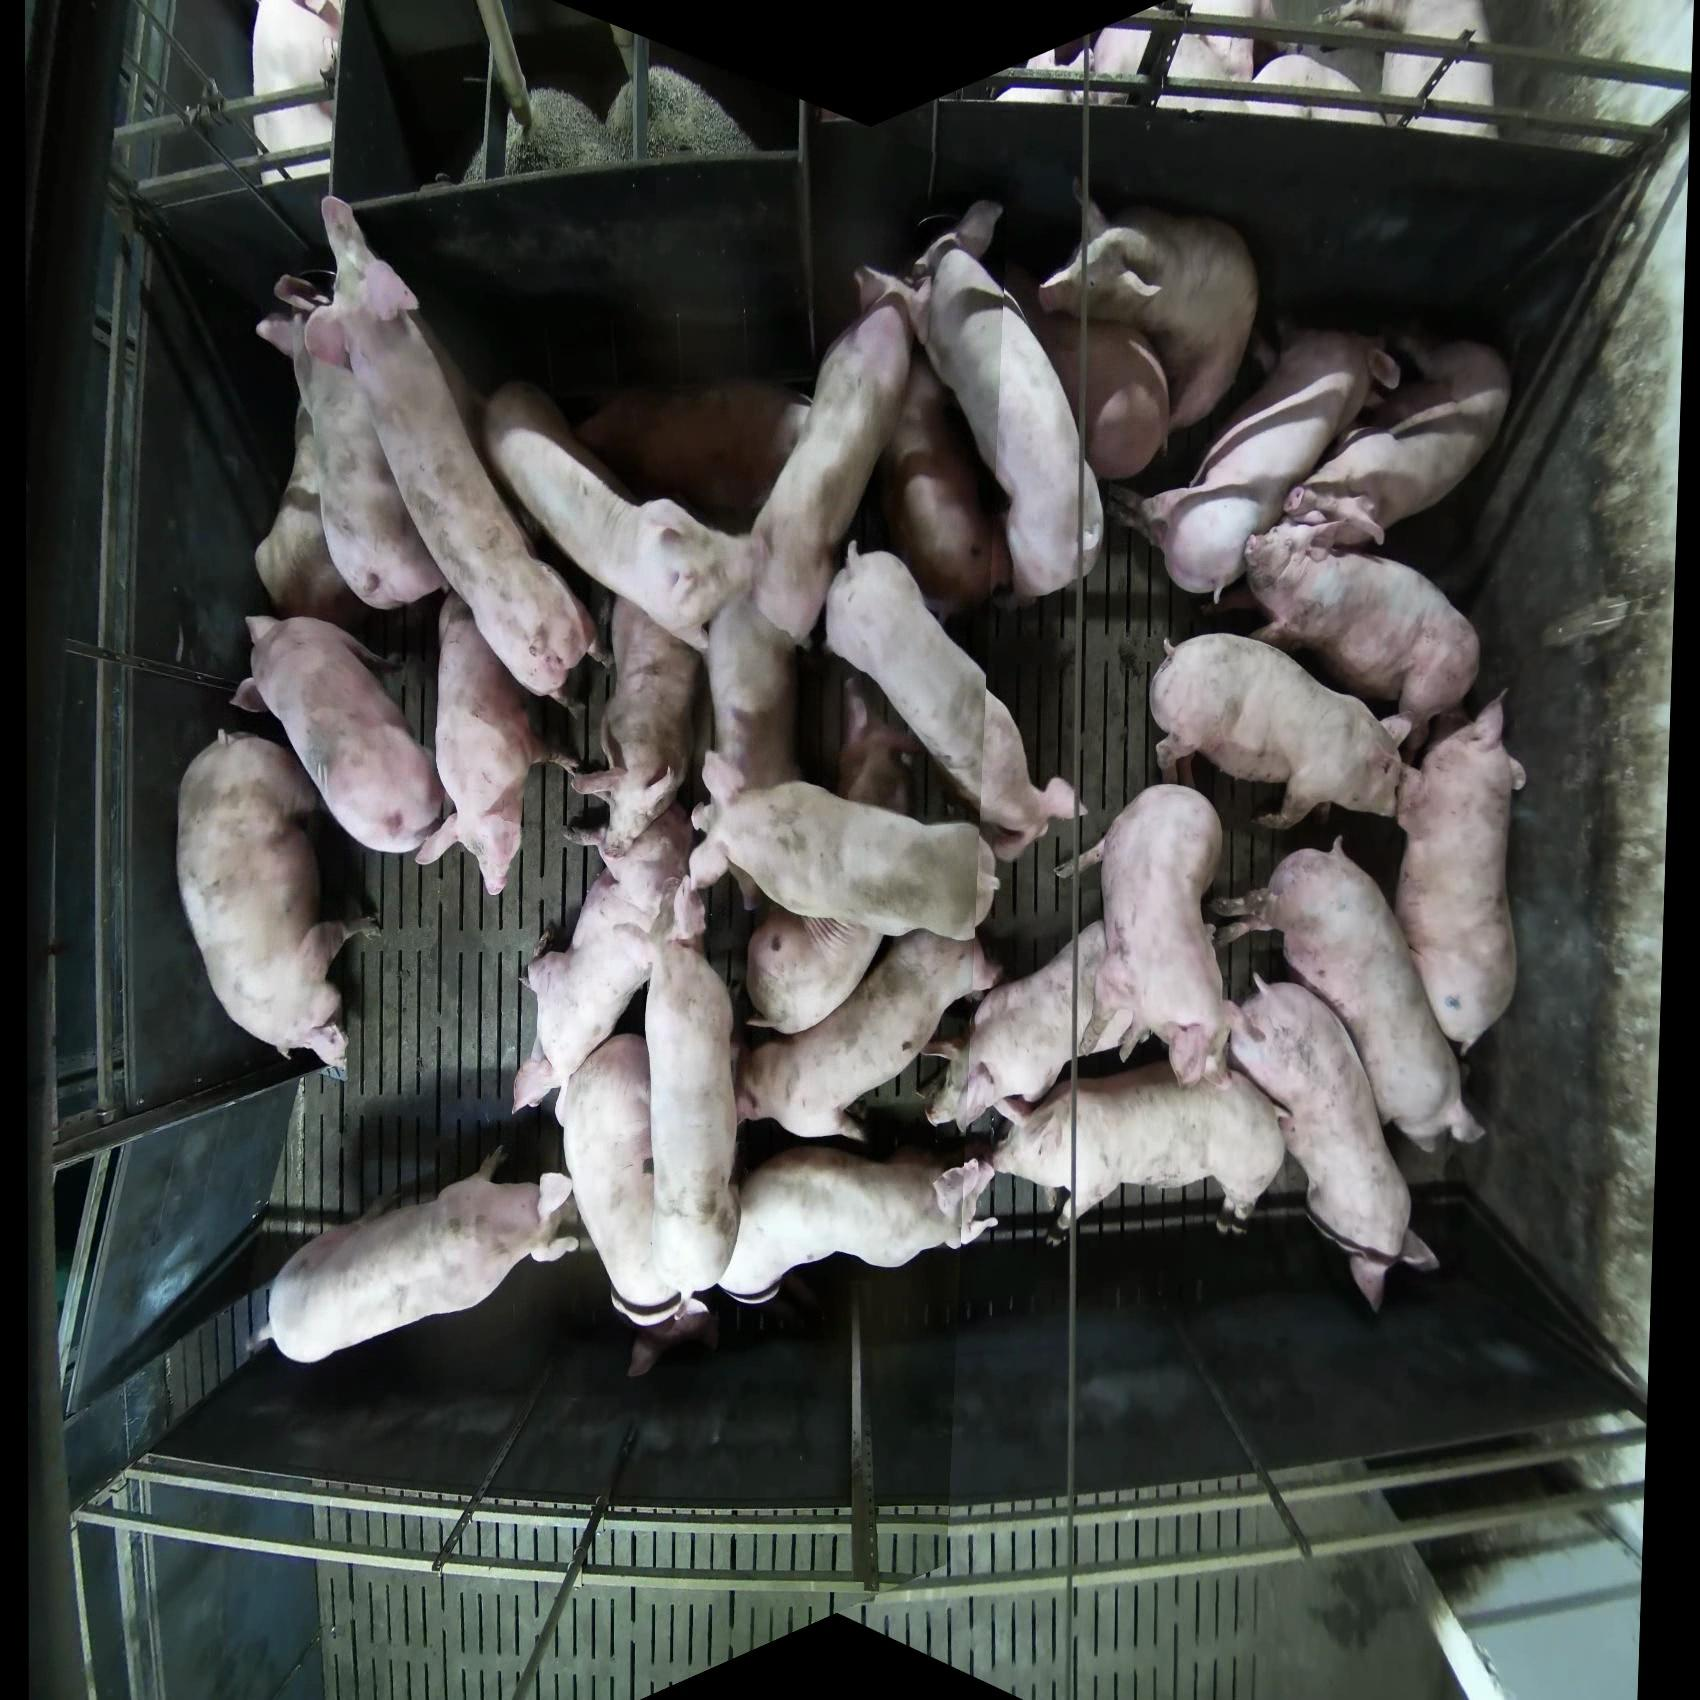pig: (283, 195, 599, 708), (853, 199, 1105, 610), (685, 279, 911, 715), (1211, 838, 1487, 1154), (824, 542, 1087, 864), (1112, 325, 1401, 606), (483, 377, 761, 648), (1225, 968, 1442, 1314), (174, 729, 381, 1084), (268, 1144, 582, 1365), (255, 276, 448, 613), (1241, 514, 1484, 767), (511, 802, 704, 1118), (691, 750, 1003, 942), (1052, 782, 1241, 1087), (1038, 177, 1261, 434), (735, 929, 1003, 1141), (413, 590, 588, 898), (229, 612, 450, 856), (556, 1032, 739, 1325), (1147, 630, 1414, 831), (1281, 321, 1513, 551), (989, 1057, 1289, 1235), (1393, 687, 1529, 1055), (718, 1143, 999, 1305), (923, 920, 1133, 1136), (999, 255, 1172, 481), (564, 593, 708, 855), (1336, 2, 1499, 139), (744, 904, 886, 1037), (251, 2, 344, 184), (606, 65, 760, 163), (500, 87, 623, 179)
